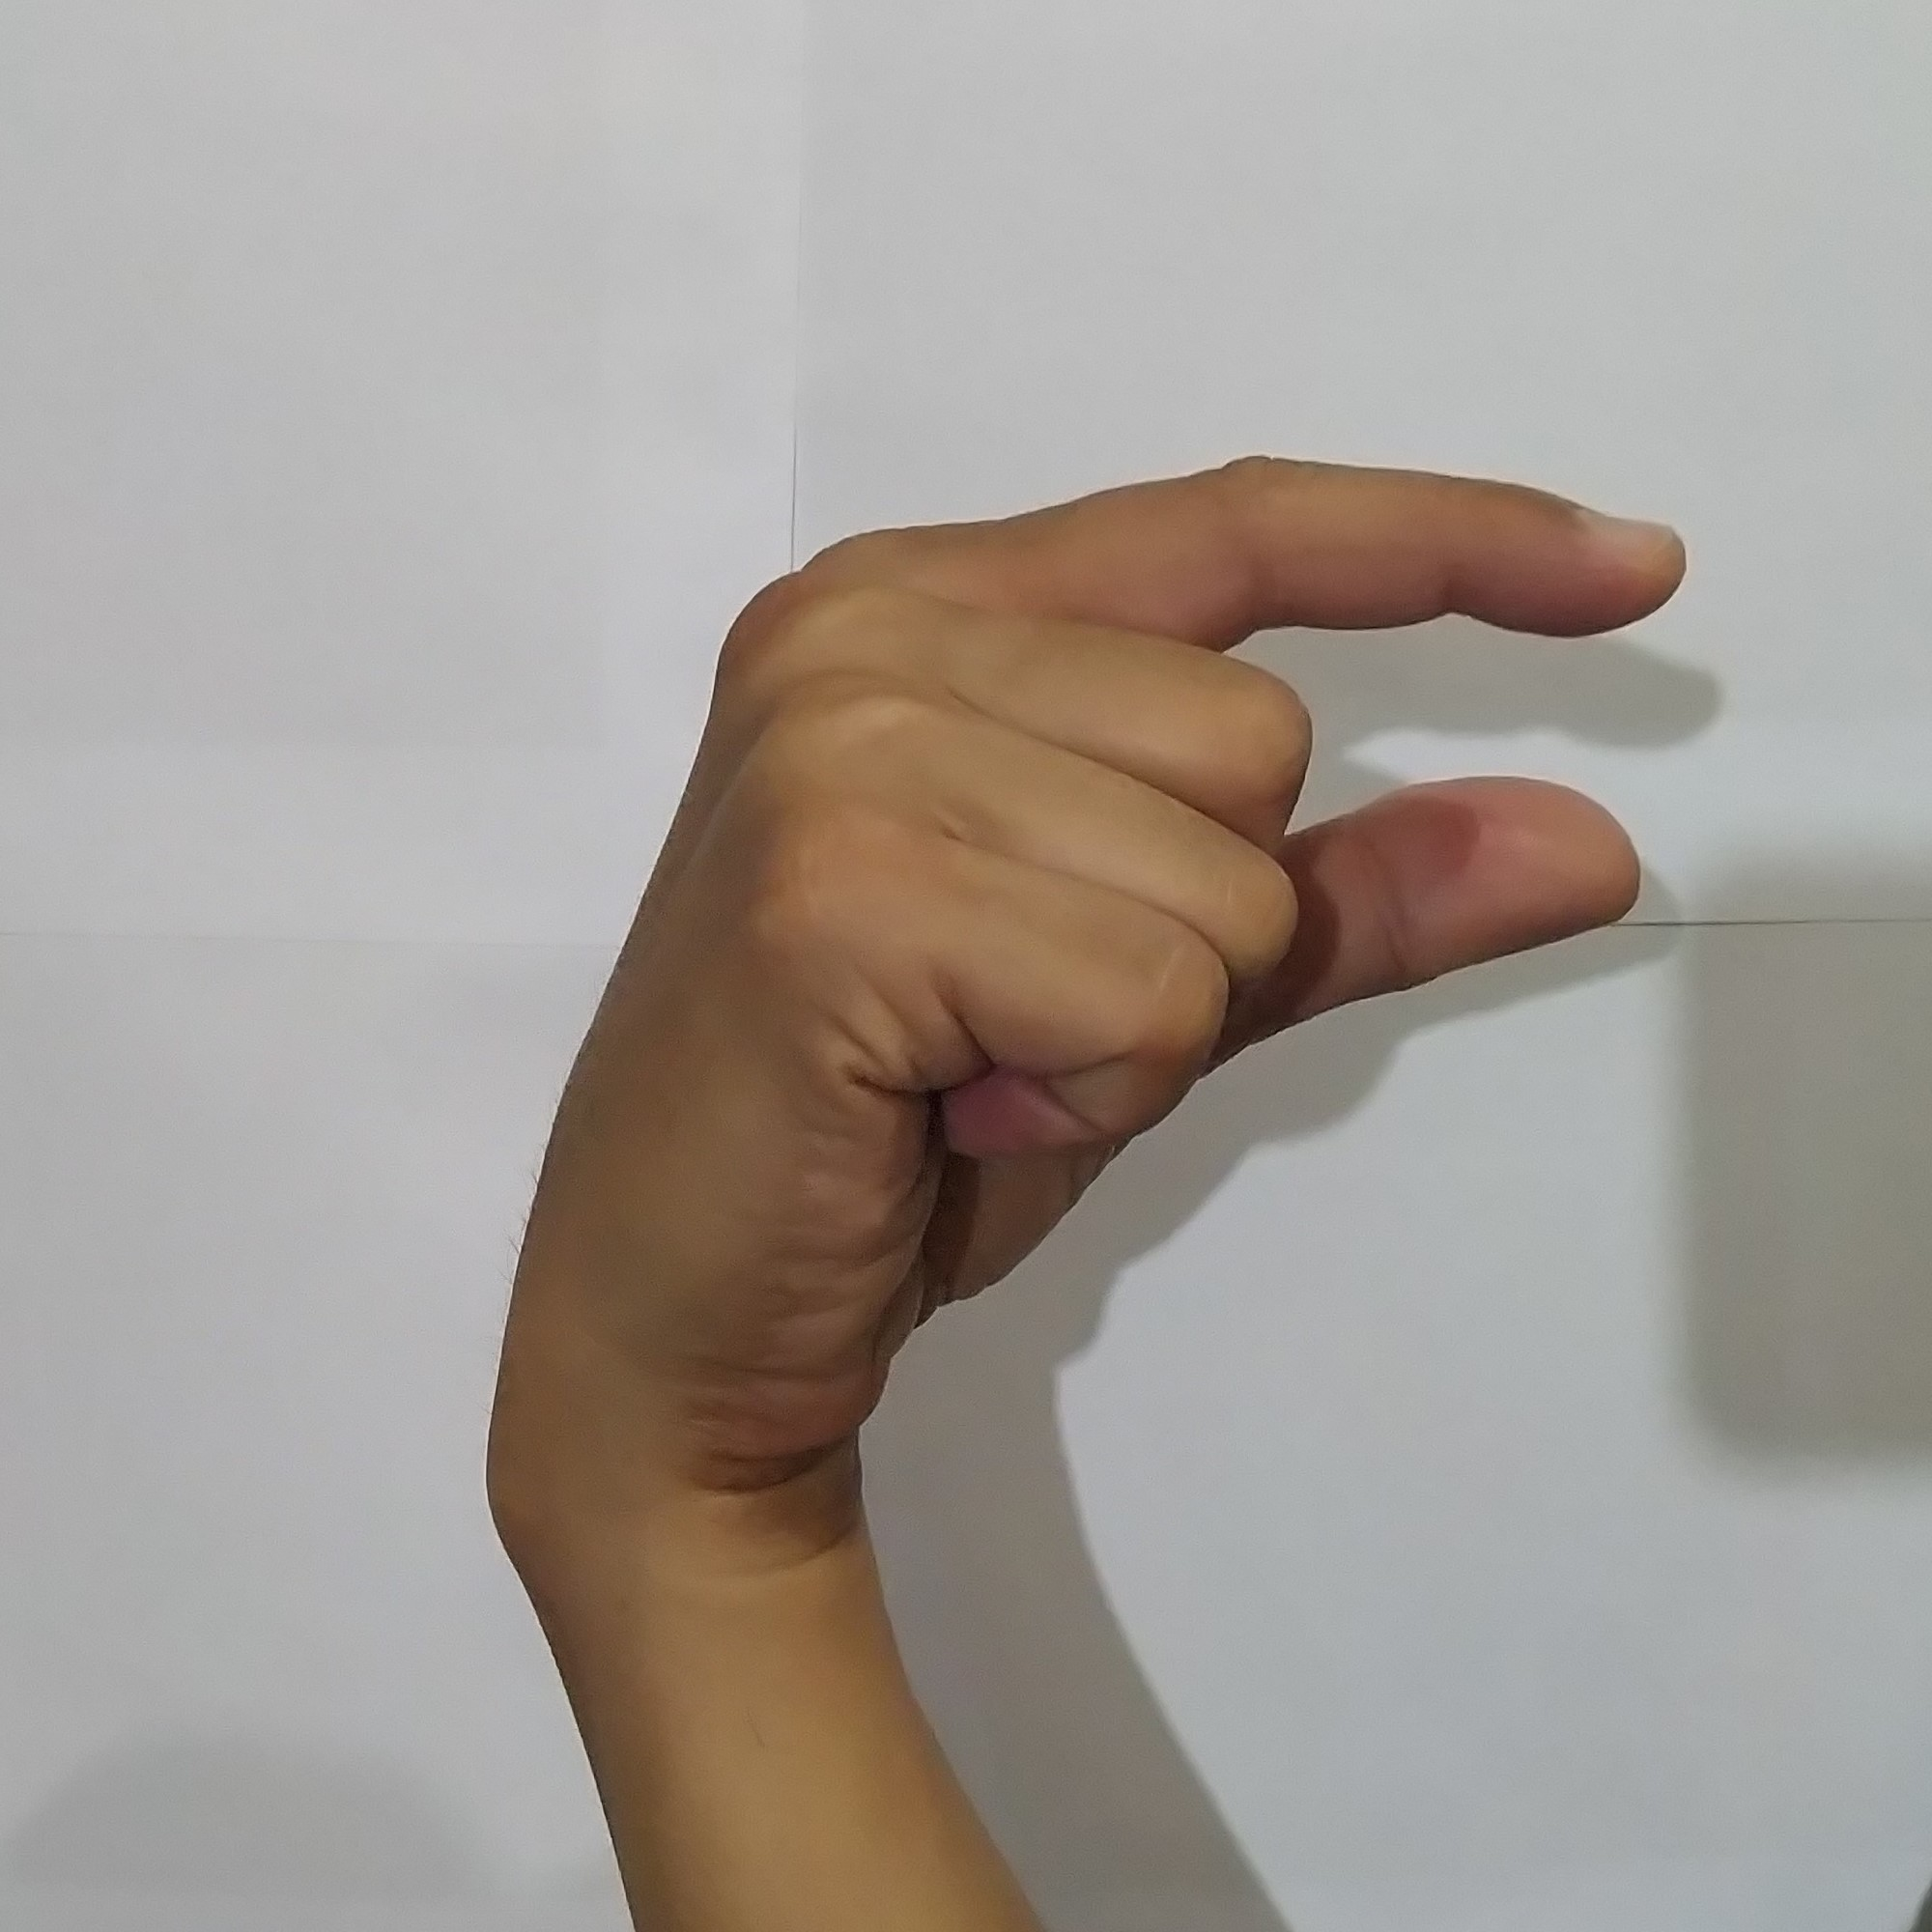G: (485, 432, 1713, 1440)
